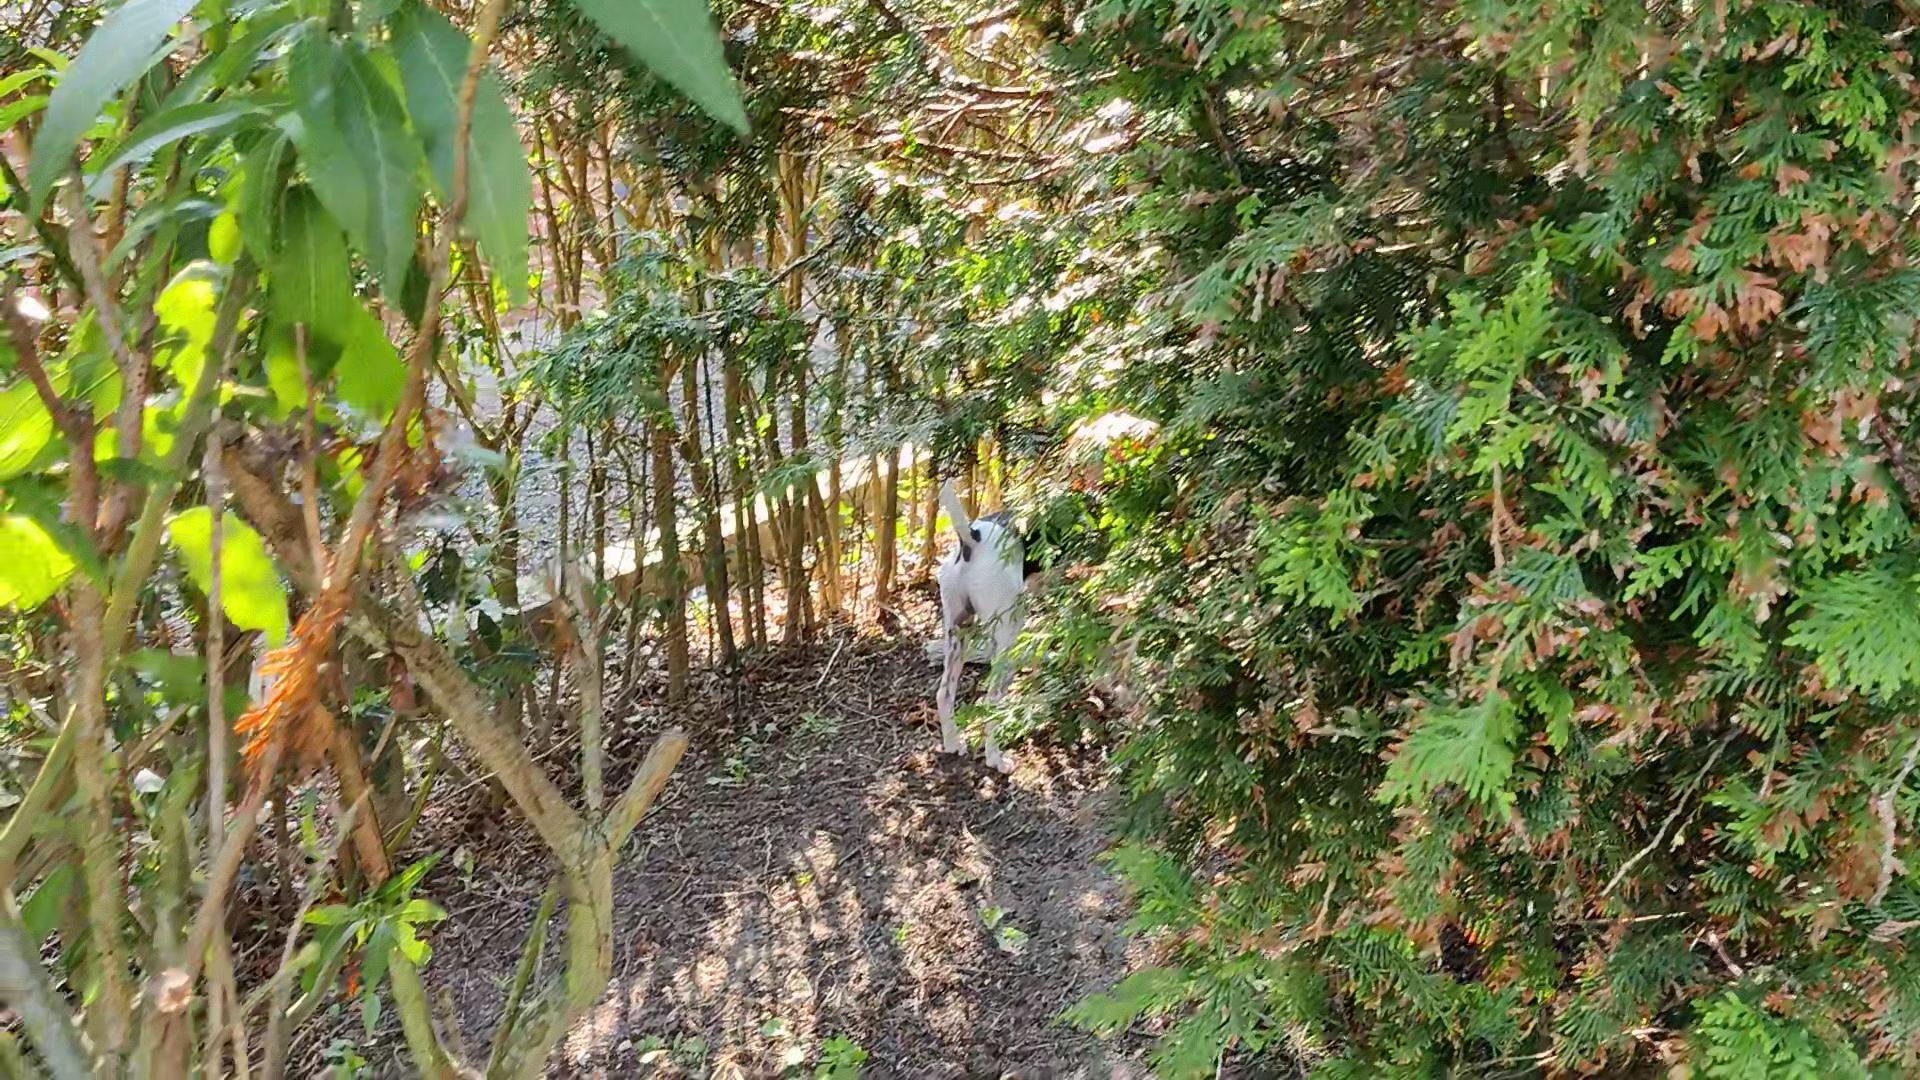Dog: (909, 436, 1073, 779)
